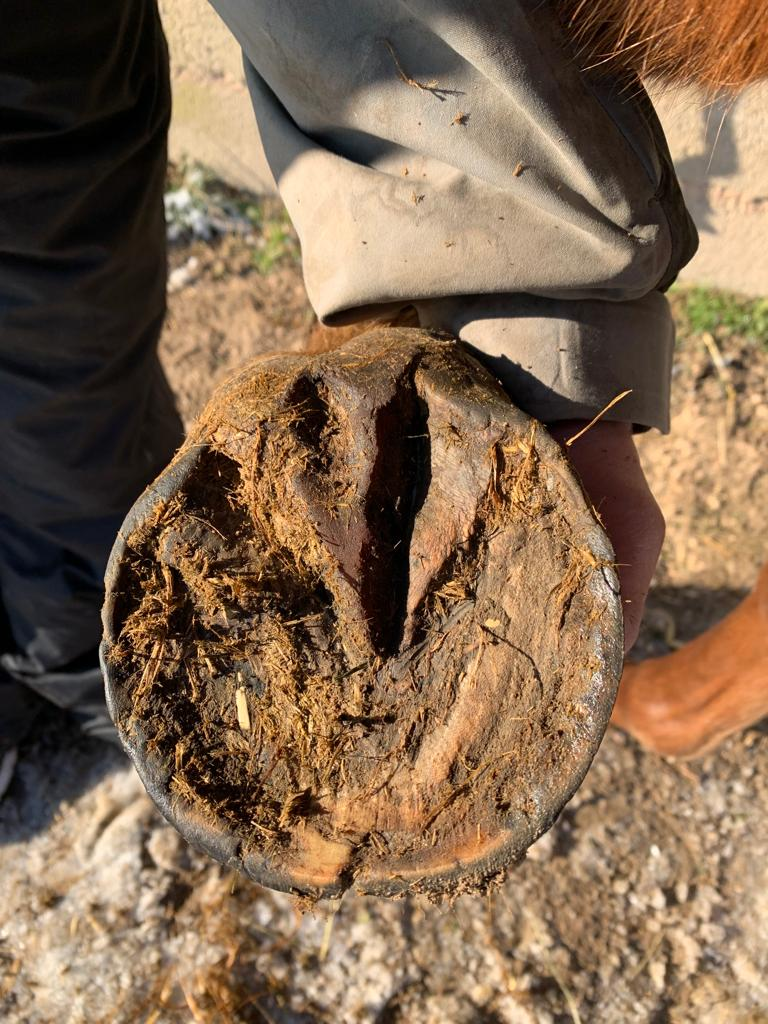horsesole: (99, 372, 625, 904)
